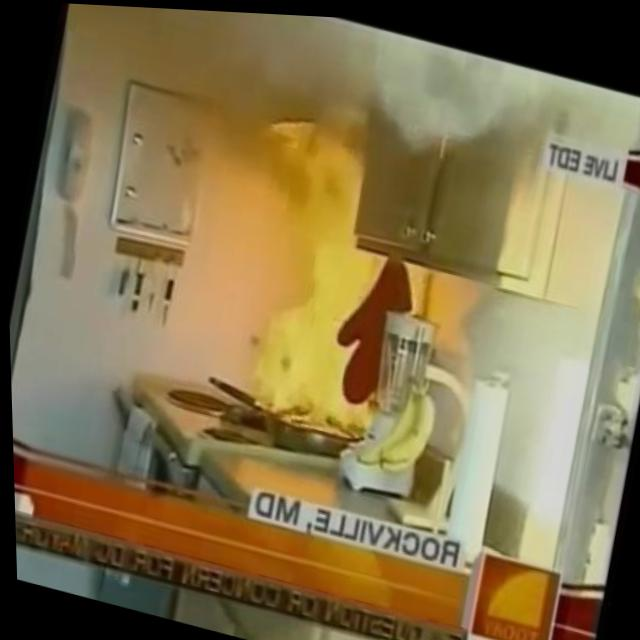fire: (228, 221, 430, 451), (233, 106, 372, 259)
